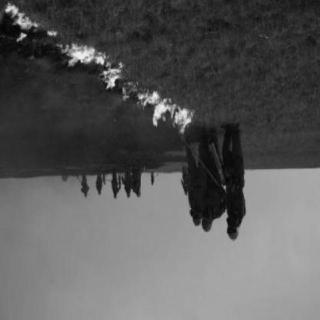Fire: (56, 43, 137, 105), (136, 86, 198, 142), (3, 4, 43, 50)
other: (179, 119, 249, 247), (74, 166, 144, 202), (148, 172, 156, 190)
